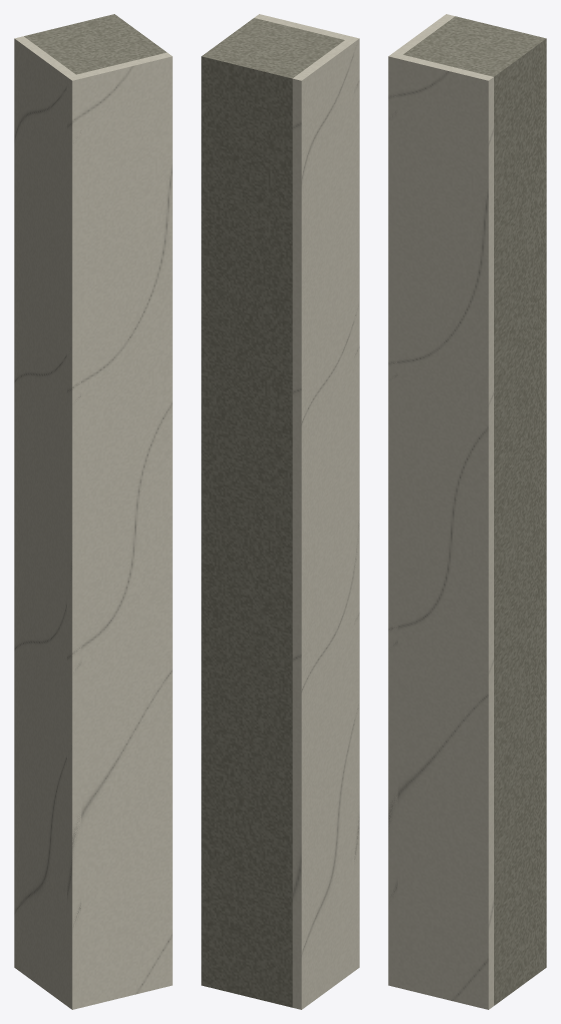
The picture shows the model from 3 angles, left to right: view 1: azimuth 30°, elevation 25°; view 2: azimuth 150°, elevation 25°; view 3: azimuth 330°, elevation 25°; orthographic projection.
Visible parts, largest first — view 1: Mitered marble corner facing, Mitered marble corner facing.001, Corner bearing return; view 2: Corner bearing return, Mitered marble corner facing.001, Mitered marble corner facing; view 3: Mitered marble corner facing, Corner bearing return, Mitered marble corner facing.001.
Boxes of the visible parts, bbox=[...] form: Mitered marble corner facing: bbox=[67, 52, 172, 1009]; Mitered marble corner facing.001: bbox=[14, 36, 81, 1008]; Corner bearing return: bbox=[24, 14, 166, 74]; Corner bearing return: bbox=[201, 18, 344, 1007]; Mitered marble corner facing.001: bbox=[292, 36, 359, 1009]; Mitered marble corner facing: bbox=[254, 14, 359, 969]; Mitered marble corner facing: bbox=[388, 52, 493, 1009]; Corner bearing return: bbox=[403, 16, 546, 1005]; Mitered marble corner facing.001: bbox=[388, 14, 454, 987].
Bounding box in the file's own units: 0.35 × 3.1 × 0.35.
Materials: 2 (2 with a texture image).
